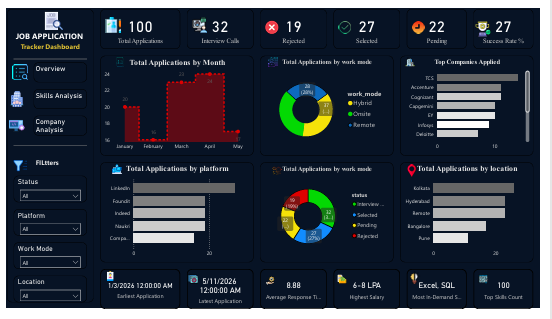

This screenshot's page, from the dashboard's own definition file:
{"tool":"powerbi","page":{"name":"Page 1","canvas":[1280,720],"ordinal":0},"visuals":[{"type":"lineChart","fields":{"Y":["job_applications.Total Applications"],"Category":["job_applications.application_date.Variation.Date Hierarchy.Month"]},"box":[224,112,368,240],"z":0},{"type":"donutChart","title":"Total Applications by work mode","fields":{"Category":["job_applications.status"],"Y":["job_applications.Total Applications"]},"box":[608,368,320,240],"z":1000},{"type":"clusteredBarChart","fields":{"Y":["job_applications.Total Applications"],"Category":["job_applications.platform"]},"box":[224,368,368,240],"z":2000},{"type":"donutChart","title":"Total Applications by work mode","fields":{"Category":["job_applications.work_mode"],"Y":["job_applications.Total Applications"]},"box":[608,112,320,240],"z":3000},{"type":"shape","box":[0,0,208,704],"z":4000},{"type":"clusteredBarChart","title":"Top Companies Applied","fields":{"Category":["job_applications.company_name"],"Y":["job_applications.Total Applications"]},"box":[944,112,320,240],"z":5000},{"type":"clusteredBarChart","fields":{"Y":["job_applications.Total Applications"],"Category":["job_applications.location"]},"box":[944,368,320,240],"z":6000},{"type":"card","fields":{"Values":["job_applications.Total Applications"]},"box":[224,0,192,96],"z":7000},{"type":"card","fields":{"Values":["job_applications.Interview Calls"]},"box":[432,0,160,96],"z":8000},{"type":"card","fields":{"Values":["job_applications.Rejected"]},"box":[608,0,160,96],"z":9000},{"type":"card","fields":{"Values":["job_applications.Selected"]},"box":[784,0,160,96],"z":10000},{"type":"card","fields":{"Values":["job_applications.Pending"]},"box":[960,0,144,96],"z":11000},{"type":"card","fields":{"Values":["job_applications.Success Rate %"]},"box":[1120,0,144,96],"z":12000},{"type":"card","fields":{"Values":["job_applications.Earliest Application"]},"box":[224,624,192,96],"z":13000},{"type":"card","fields":{"Values":["job_applications.Latest Application"]},"box":[432,624,160,96],"z":14000},{"type":"card","fields":{"Values":["job_applications.Average Response Time"]},"box":[608,624,160,96],"z":15000},{"type":"card","fields":{"Values":["job_applications.Highest Salary"]},"box":[784,624,160,96],"z":16000},{"type":"card","fields":{"Values":["job_applications.Most In-Demand Skill"]},"box":[960,624,144,96],"z":17000},{"type":"card","fields":{"Values":["job_applications.Top Skills Count"]},"box":[1120,624,144,96],"z":18000},{"type":"textbox","box":[16,48,176,64],"z":19000},{"type":"actionButton","title":"Overview","box":[64,128,128,48],"z":20000},{"type":"actionButton","title":"Skills Analysis","box":[64,192,128,48],"z":21000},{"type":"actionButton","title":"Company Analysis","box":[64,256,128,48],"z":22000},{"type":"image","box":[80,0,64,57],"z":23000},{"type":"image","box":[0,128,64,48],"z":24000},{"type":"image","box":[0,192,48,48],"z":25000},{"type":"image","box":[0,256,48,48],"z":26000},{"type":"image","box":[224,16,64,48],"z":27000},{"type":"image","box":[440,16,48,48],"z":28000},{"type":"image","box":[608,16,56,56],"z":29000},{"type":"image","box":[792,24,40,40],"z":30000},{"type":"image","box":[968,24,40,40],"z":31000},{"type":"image","box":[1120,24,48,48],"z":32000},{"type":"shape","box":[16,272,176,112],"z":33000},{"type":"shape","box":[16,80,176,80],"z":34000},{"type":"textbox","box":[16,352,176,32],"z":35000},{"type":"image","box":[0,352,64,48],"z":36000},{"type":"image","box":[248,112,48,32],"z":37000},{"type":"image","box":[632,368,32,40],"z":38000},{"type":"image","box":[624,112,32,32],"z":39000},{"type":"image","box":[952,112,32,32],"z":40000},{"type":"image","box":[952,368,40,40],"z":41000},{"type":"image","box":[240,368,48,32],"z":42000},{"type":"slicer","title":"Status","fields":{"Values":["job_applications.status"]},"box":[16,400,176,64],"z":43000},{"type":"slicer","title":"Platform","fields":{"Values":["job_applications.platform"]},"box":[16,480,176,64],"z":44000},{"type":"slicer","title":"Work Mode","fields":{"Values":["job_applications.work_mode"]},"box":[16,560,176,64],"z":45000},{"type":"slicer","title":"Location","fields":{"Values":["job_applications.location"]},"box":[16,640,176,64],"z":46000},{"type":"image","box":[224,624,48,32],"z":46001},{"type":"image","box":[432,632,32,32],"z":46002},{"type":"image","box":[616,632,32,40],"z":46003},{"type":"image","box":[784,632,40,32],"z":46004},{"type":"image","box":[960,624,40,40],"z":46005},{"type":"image","box":[1128,632,32,32],"z":46006}]}

Visuals, with their boxes in screenshot pixels (x1, y1, x2, y2), scaled from the page's 1280x720 canvas onto the 552x319 screenshot:
lineChart - job_applications.Total Applications x job_applications.application_date.Variation.Date Hierarchy.Month: [x1=97, y1=50, x2=255, y2=156]
"Total Applications by work mode" donutChart: [x1=262, y1=163, x2=400, y2=269]
clusteredBarChart - job_applications.Total Applications x job_applications.platform: [x1=97, y1=163, x2=255, y2=269]
"Total Applications by work mode" donutChart: [x1=262, y1=50, x2=400, y2=156]
shape: [x1=0, y1=0, x2=90, y2=312]
"Top Companies Applied" clusteredBarChart: [x1=407, y1=50, x2=545, y2=156]
clusteredBarChart - job_applications.Total Applications x job_applications.location: [x1=407, y1=163, x2=545, y2=269]
card - job_applications.Total Applications: [x1=97, y1=0, x2=179, y2=43]
card - job_applications.Interview Calls: [x1=186, y1=0, x2=255, y2=43]
card - job_applications.Rejected: [x1=262, y1=0, x2=331, y2=43]
card - job_applications.Selected: [x1=338, y1=0, x2=407, y2=43]
card - job_applications.Pending: [x1=414, y1=0, x2=476, y2=43]
card - job_applications.Success Rate %: [x1=483, y1=0, x2=545, y2=43]
card - job_applications.Earliest Application: [x1=97, y1=276, x2=179, y2=318]
card - job_applications.Latest Application: [x1=186, y1=276, x2=255, y2=318]
card - job_applications.Average Response Time: [x1=262, y1=276, x2=331, y2=318]
card - job_applications.Highest Salary: [x1=338, y1=276, x2=407, y2=318]
card - job_applications.Most In-Demand Skill: [x1=414, y1=276, x2=476, y2=318]
card - job_applications.Top Skills Count: [x1=483, y1=276, x2=545, y2=318]
textbox: [x1=7, y1=21, x2=83, y2=50]
"Overview" actionButton: [x1=28, y1=57, x2=83, y2=78]
"Skills Analysis" actionButton: [x1=28, y1=85, x2=83, y2=106]
"Company Analysis" actionButton: [x1=28, y1=113, x2=83, y2=135]
image: [x1=34, y1=0, x2=62, y2=25]
image: [x1=0, y1=57, x2=28, y2=78]
image: [x1=0, y1=85, x2=21, y2=106]
image: [x1=0, y1=113, x2=21, y2=135]
image: [x1=97, y1=7, x2=124, y2=28]
image: [x1=190, y1=7, x2=210, y2=28]
image: [x1=262, y1=7, x2=286, y2=32]
image: [x1=342, y1=11, x2=359, y2=28]
image: [x1=417, y1=11, x2=435, y2=28]
image: [x1=483, y1=11, x2=504, y2=32]
shape: [x1=7, y1=121, x2=83, y2=170]
shape: [x1=7, y1=35, x2=83, y2=71]
textbox: [x1=7, y1=156, x2=83, y2=170]
image: [x1=0, y1=156, x2=28, y2=177]
image: [x1=107, y1=50, x2=128, y2=64]
image: [x1=273, y1=163, x2=286, y2=181]
image: [x1=269, y1=50, x2=283, y2=64]
image: [x1=411, y1=50, x2=424, y2=64]
image: [x1=411, y1=163, x2=428, y2=181]
image: [x1=104, y1=163, x2=124, y2=177]
"Status" slicer: [x1=7, y1=177, x2=83, y2=206]
"Platform" slicer: [x1=7, y1=213, x2=83, y2=241]
"Work Mode" slicer: [x1=7, y1=248, x2=83, y2=276]
"Location" slicer: [x1=7, y1=284, x2=83, y2=312]
image: [x1=97, y1=276, x2=117, y2=291]
image: [x1=186, y1=280, x2=200, y2=294]
image: [x1=266, y1=280, x2=279, y2=298]
image: [x1=338, y1=280, x2=355, y2=294]
image: [x1=414, y1=276, x2=431, y2=294]
image: [x1=486, y1=280, x2=500, y2=294]
